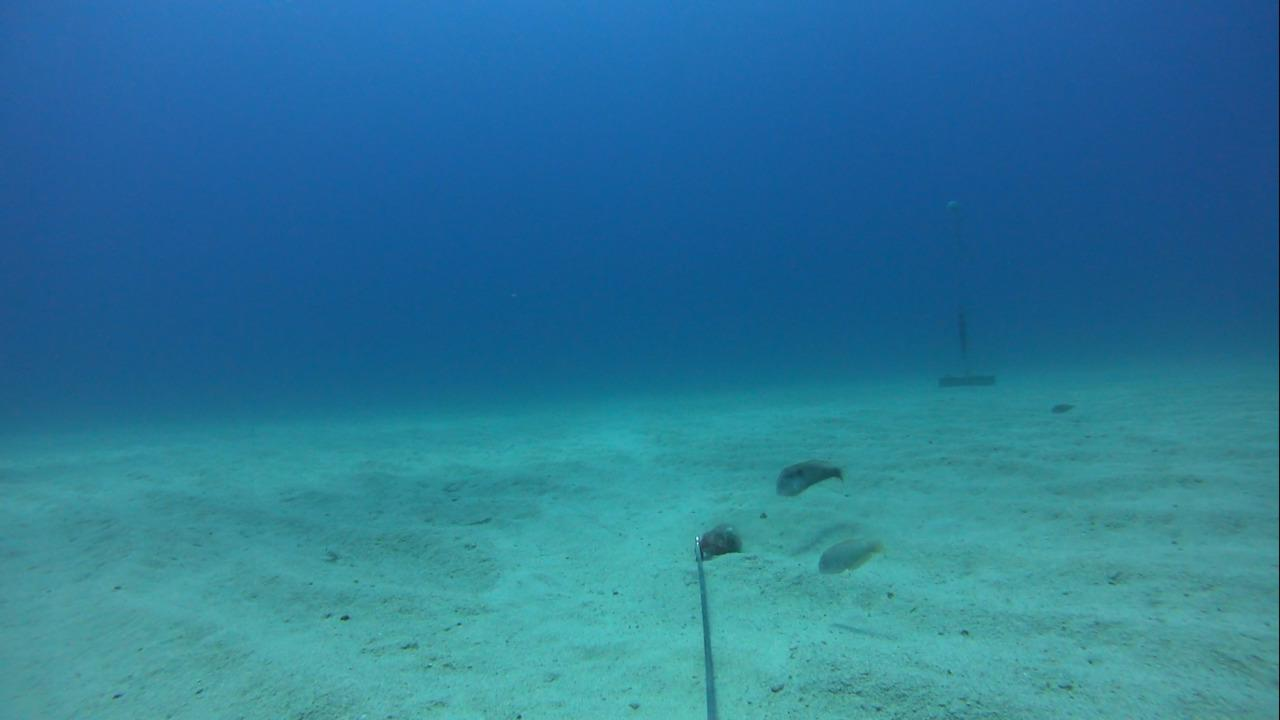raor: (806, 524, 894, 579), (769, 453, 846, 498)
